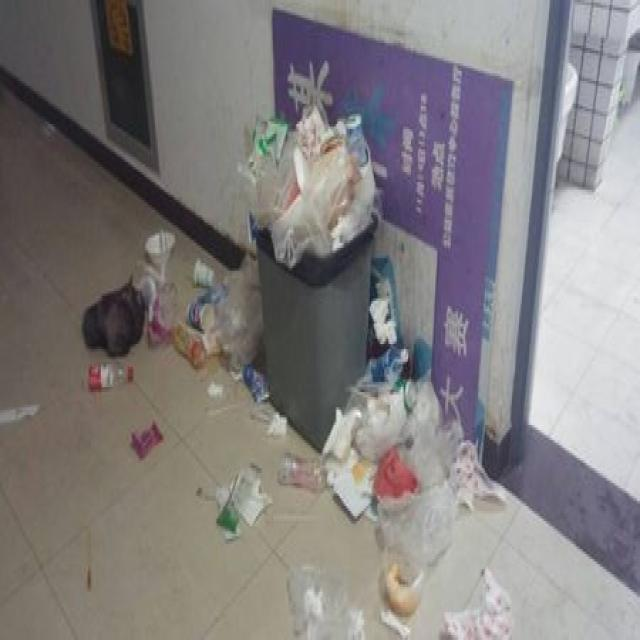garbage: (82, 230, 508, 638)
overflow: (239, 104, 378, 448)
